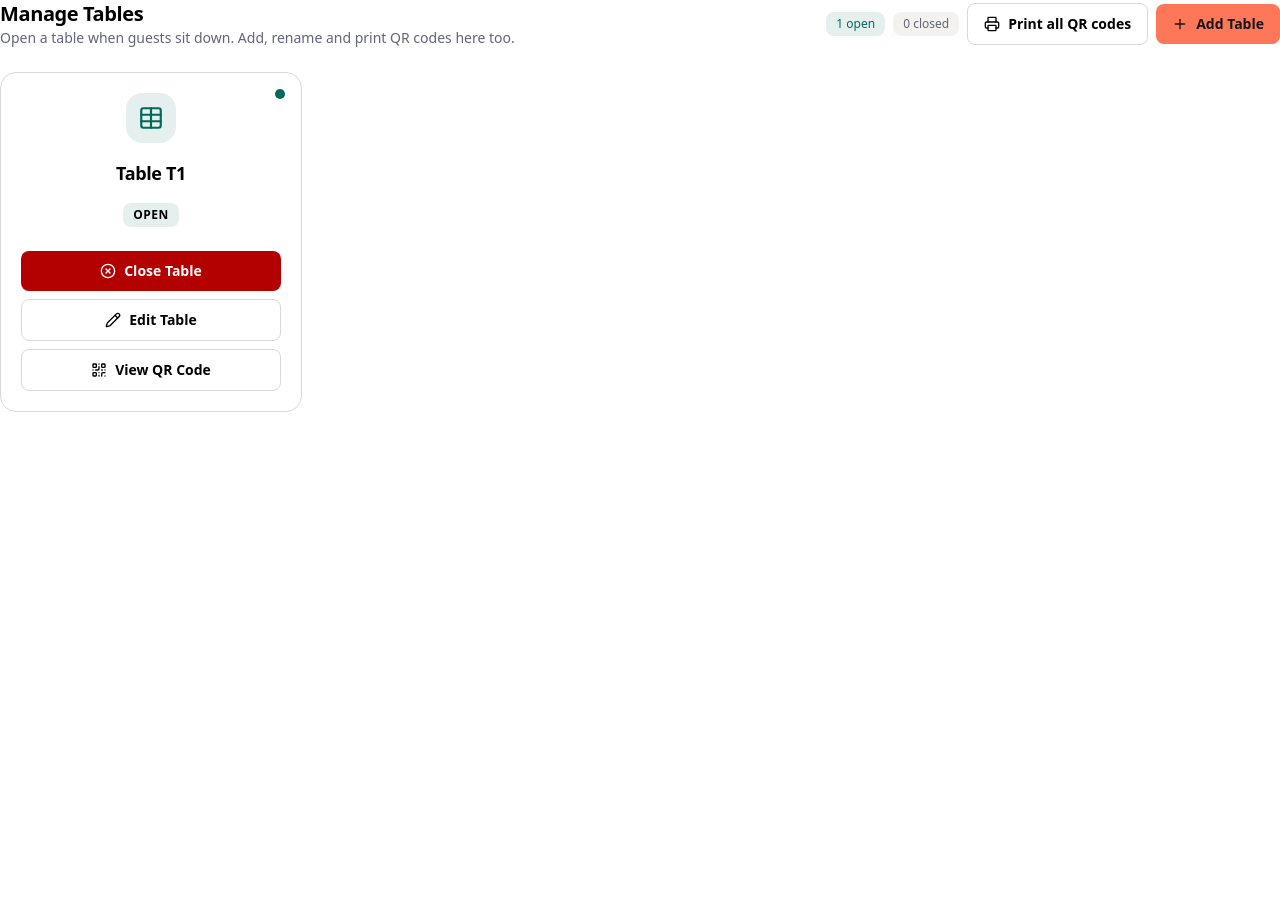
resetting a table's QR code (SEC-04) › the owner confirms first, then the table gets a new link
The image size is (1280, 900).
Later steps or results of the test are not shown.
Step 1. Click the button "Edit Table" → [151, 320], box top-left (21, 299), bottom-right (281, 341)
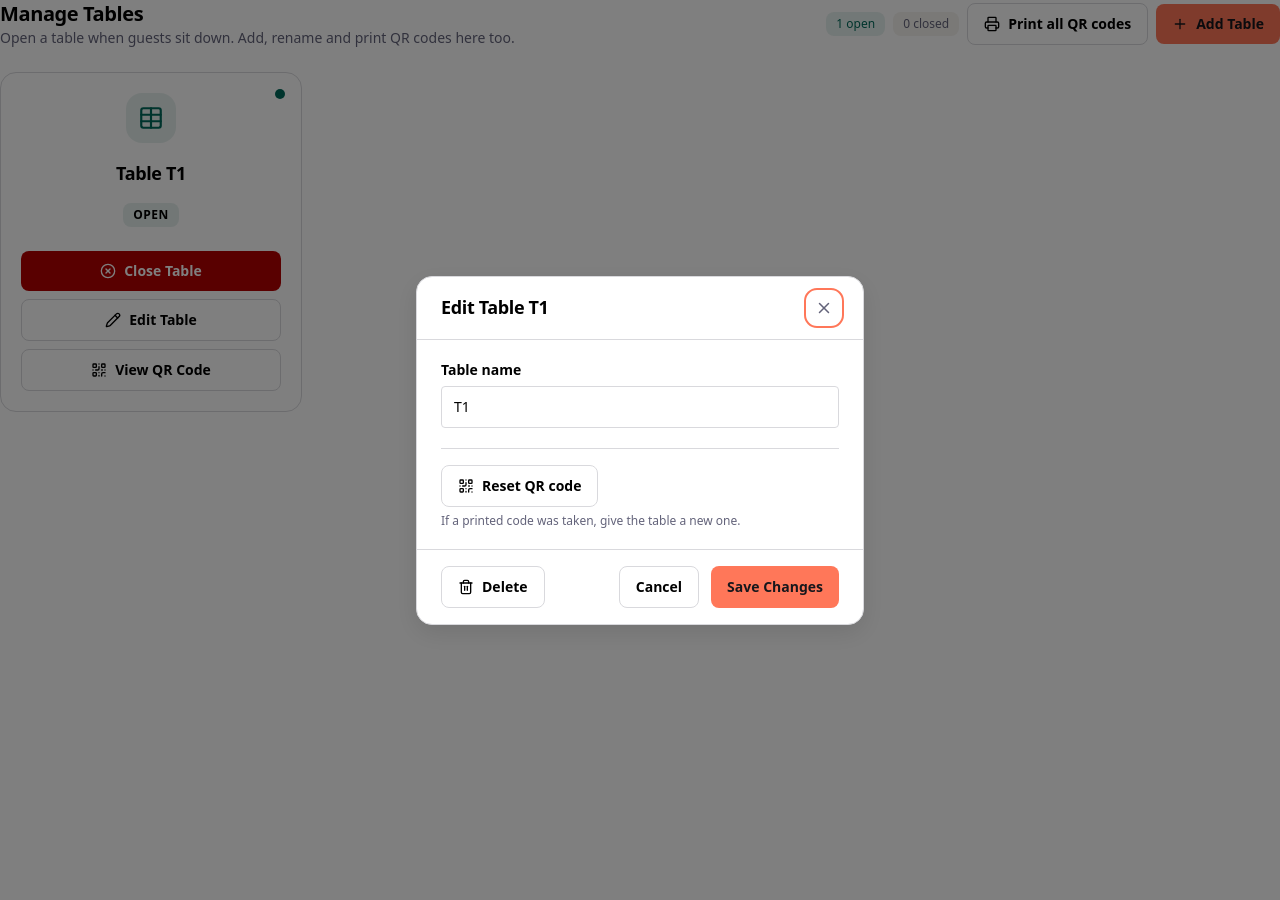
Step 2. Click the button "Reset QR code" → [520, 486], box top-left (441, 464), bottom-right (598, 506)
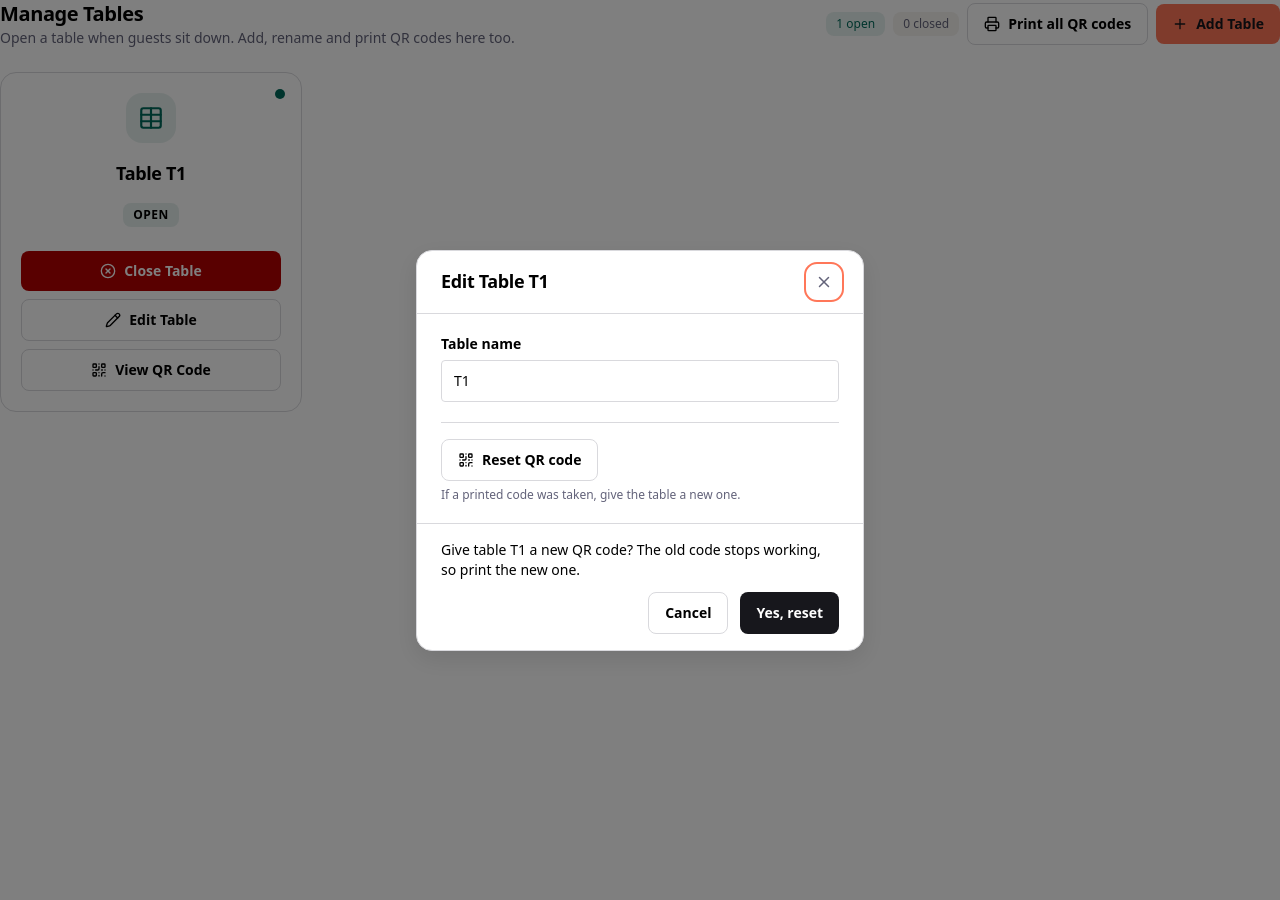
Result: the text "old code stops working" is shown at top-left (441, 540), bottom-right (821, 578)
